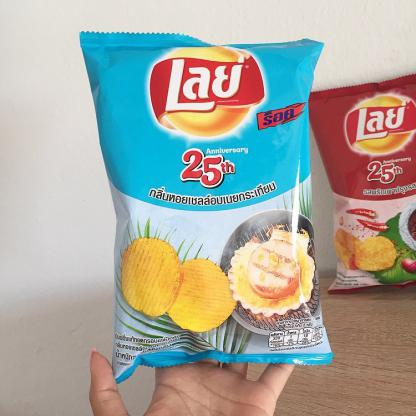potatochip: (70, 26, 336, 392), (290, 67, 416, 298)
